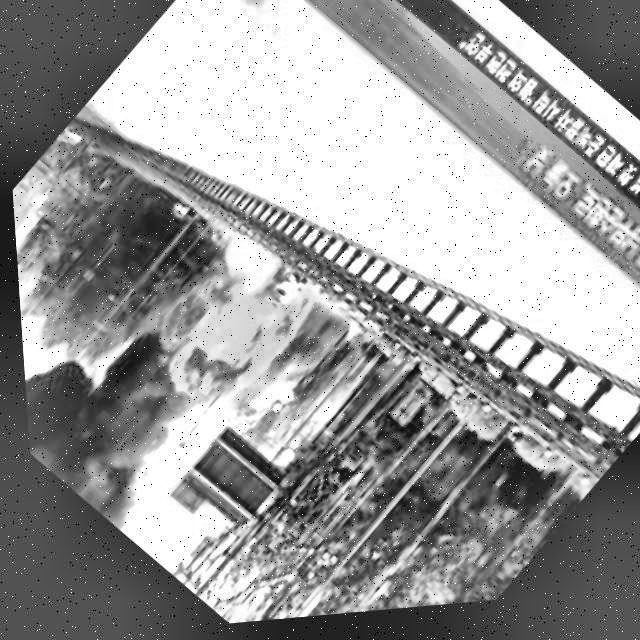Fire: (119, 225, 324, 433)
Smoke: (16, 291, 237, 555)
